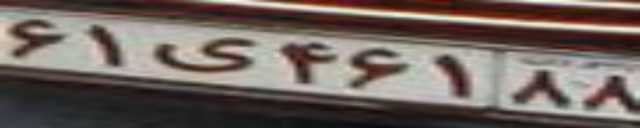1: (432, 52, 475, 97), (83, 22, 123, 66)
4: (279, 39, 338, 85)
6: (344, 45, 410, 90), (6, 19, 69, 59)
8: (507, 69, 569, 106), (582, 73, 639, 112)
ye: (148, 35, 257, 73)
